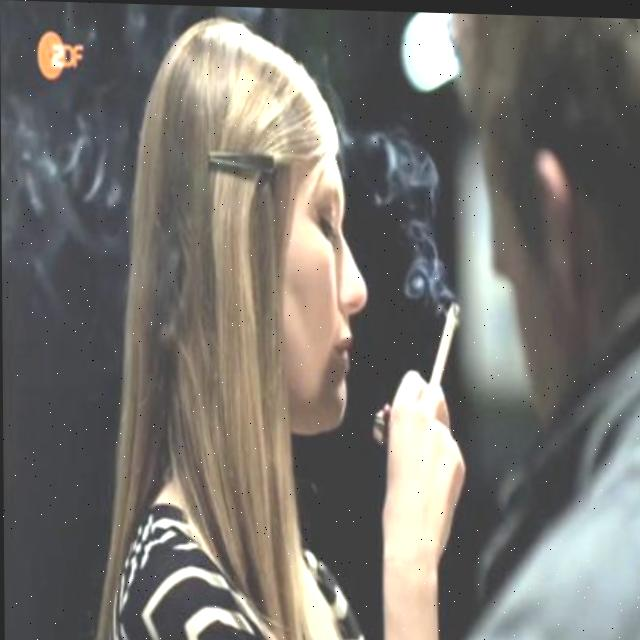cigarette: (427, 298, 461, 385)
